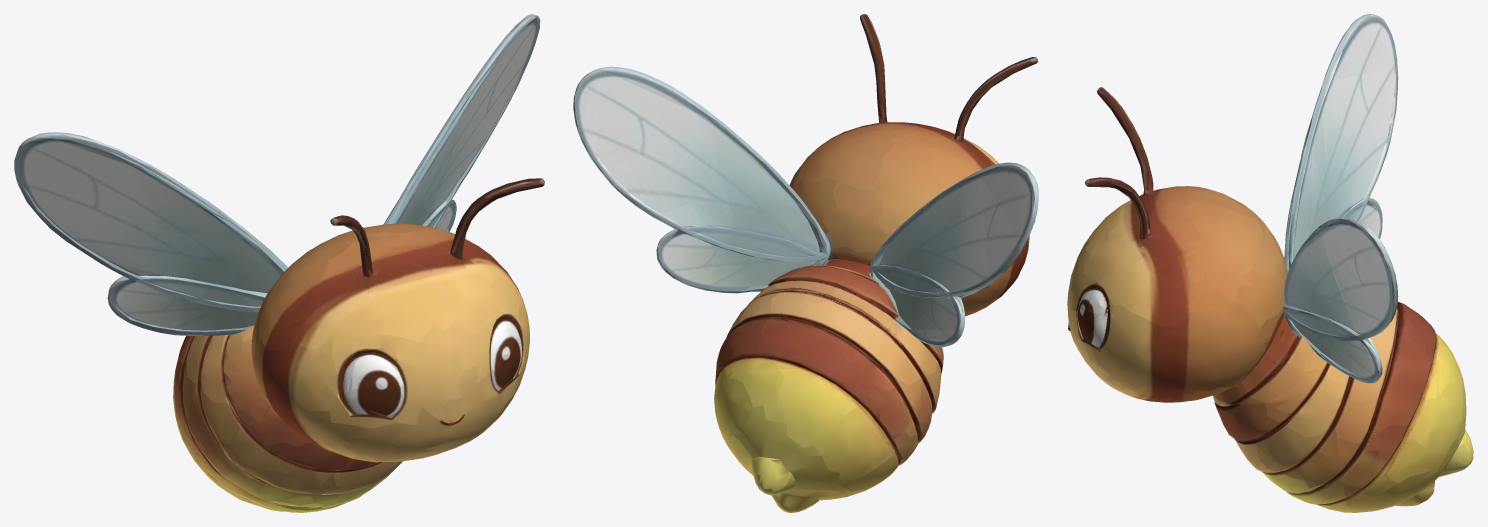
The model's file is pet_sparky.glb.
The picture shows the model from 3 angles, left to right: view 1: azimuth 30°, elevation 25°; view 2: azimuth 150°, elevation 25°; view 3: azimuth 270°, elevation 25°; orthographic projection. The views are drawn at different scales.
Size of the model in its own units: 1.9 by 1.48 by 1.41.
1 material, 1 textured.
